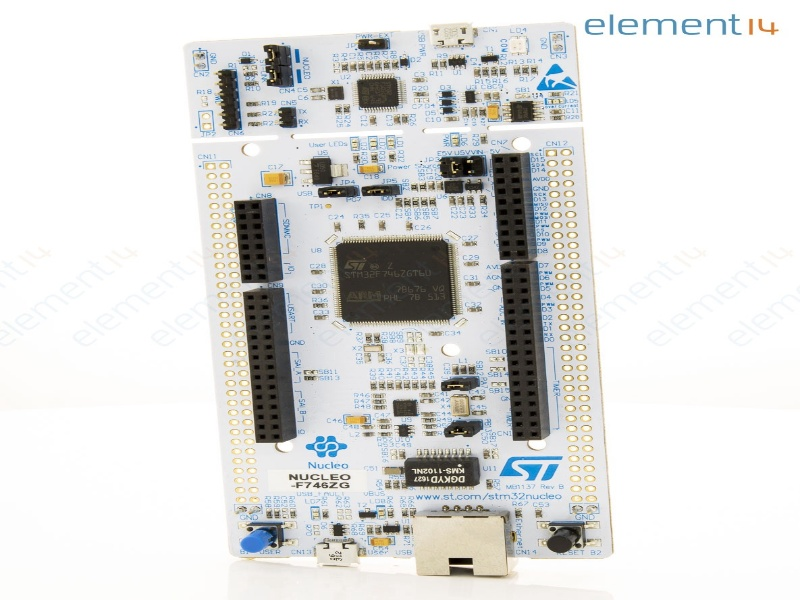stmnucleo: (176, 27, 647, 573)
